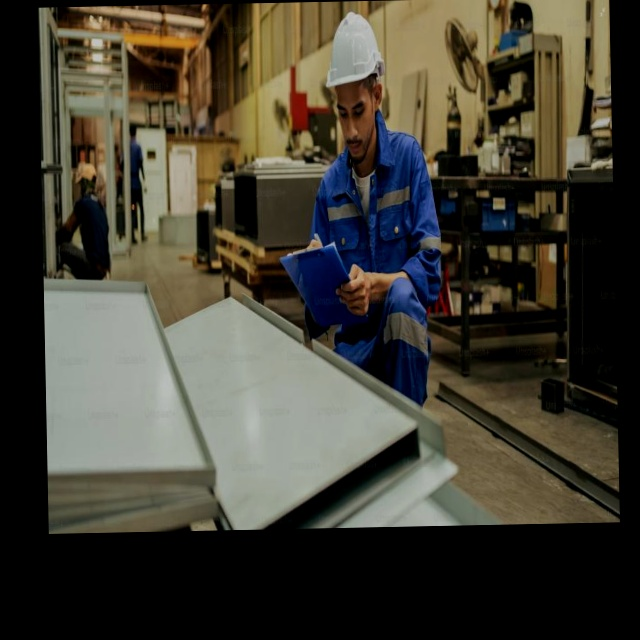Con_Casco: (325, 11, 386, 156)
